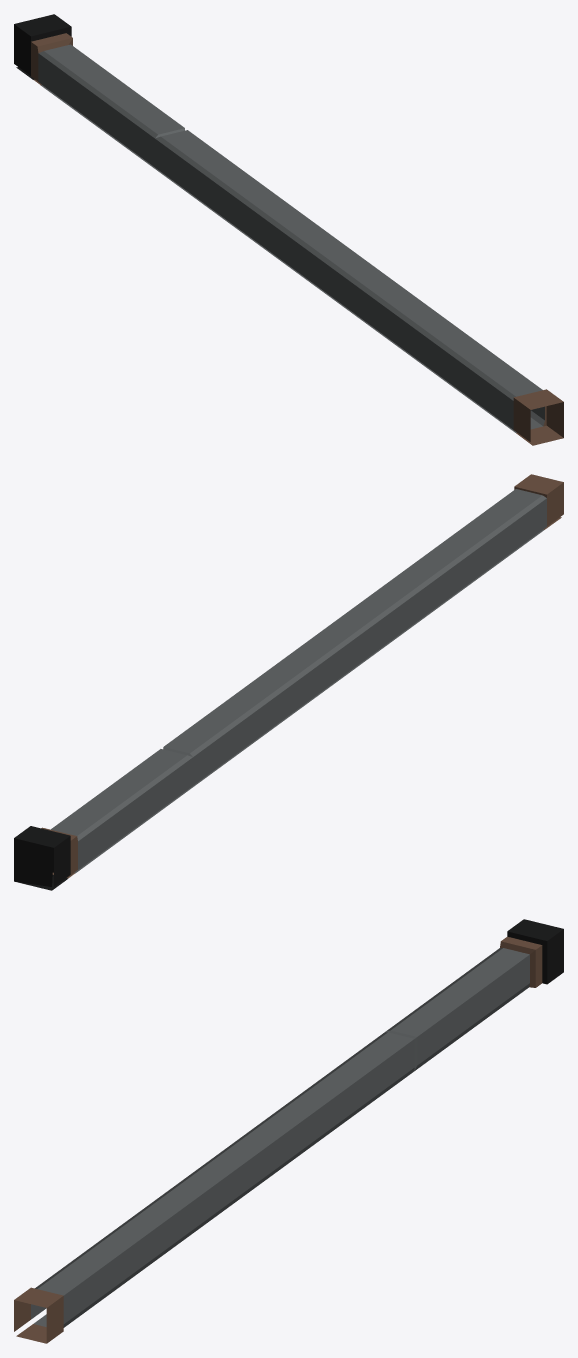
File: FBLD_m30_corner_82_a_L.fbx
3 views of the same model, one above another, from view 1: azimuth 30°, elevation 25°; view 2: azimuth 150°, elevation 25°; view 3: azimuth 330°, elevation 25° (orthographic).
Visible parts, largest first — view 1: FBLD_m30_corner_82_a_L; view 2: FBLD_m30_corner_82_a_L; view 3: FBLD_m30_corner_82_a_L.
Boxes of the visible parts, x1=… form: FBLD_m30_corner_82_a_L: x1=14, y1=14, x2=563, y2=445; FBLD_m30_corner_82_a_L: x1=14, y1=474, x2=563, y2=890; FBLD_m30_corner_82_a_L: x1=14, y1=919, x2=563, y2=1343.
Size of the model in its own units: 272 by 282 by 6000.
